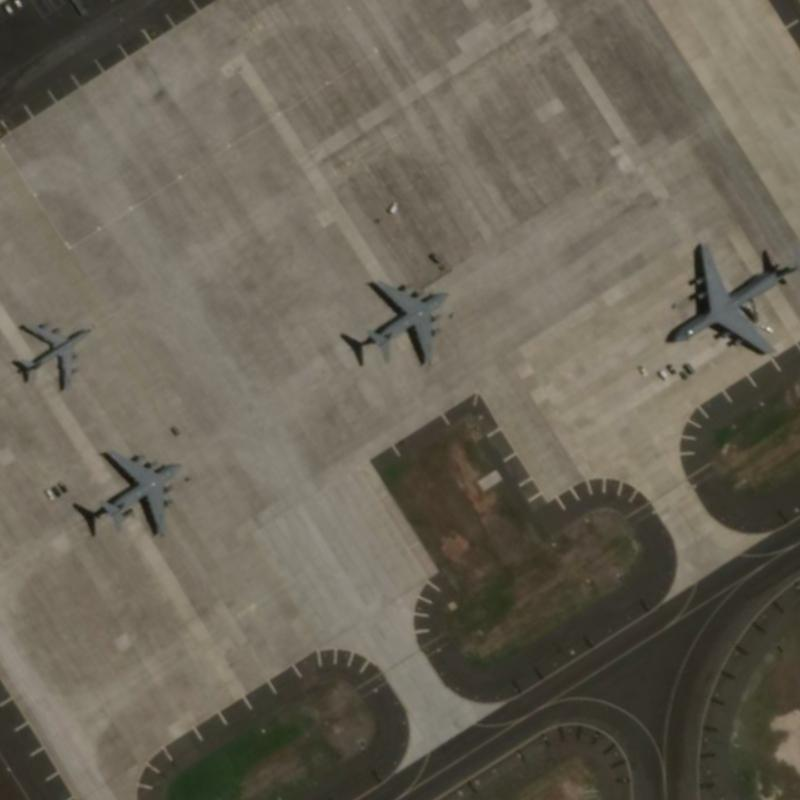A14: (9, 316, 93, 392)
A3: (94, 442, 186, 536), (362, 273, 453, 368)
A4: (664, 235, 799, 356)
